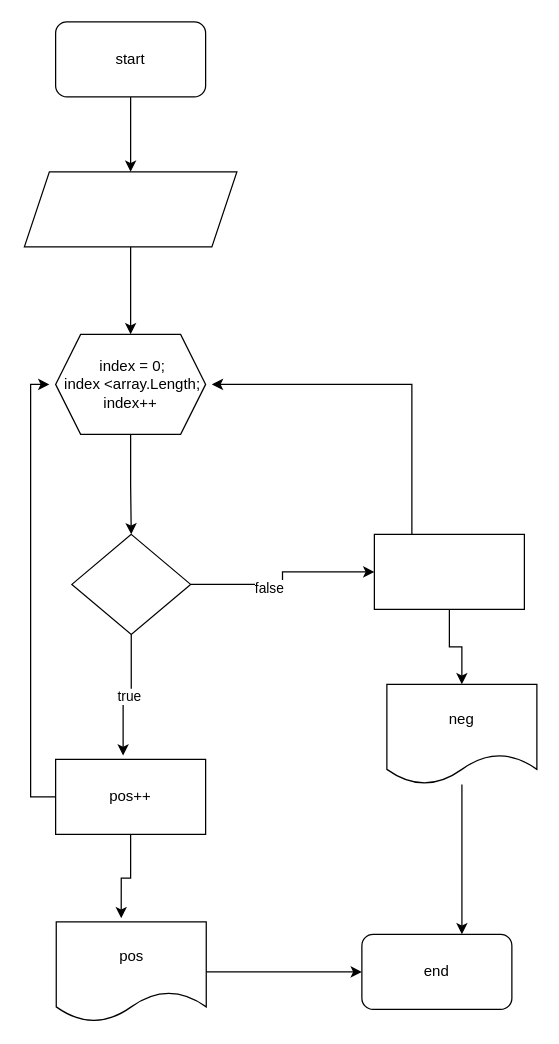
Image size: 559x1044. Some labels were removed from this diagram. The shapes that lost their labels are listed below. From the top down, each one's box as (x1, y1, x2, y2) in pixels, then its label:
(23, 171, 237, 247): array = { -3, -7, -5 ,5}; pos=0; neg=0;
(71, 533, 191, 634): array[index] < 0
(373, 533, 524, 609): neg++
